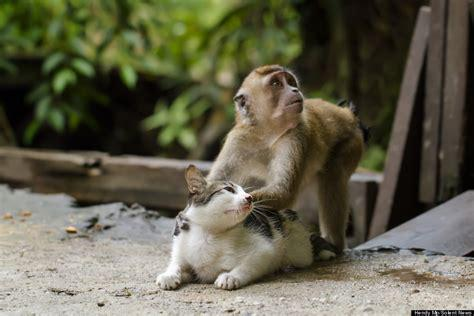cat: (156, 163, 317, 290)
monkey: (206, 65, 364, 250)
